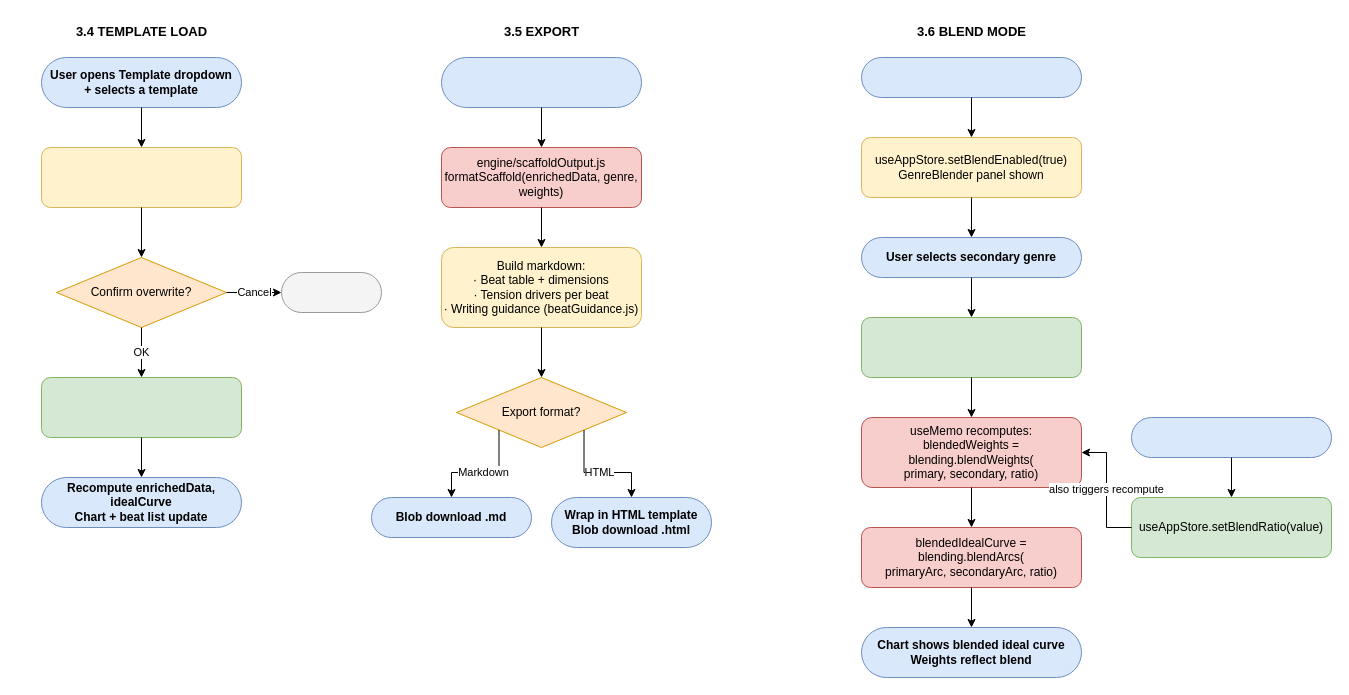
Image size: 1349x695. Some labels were removed from this diagram. Each missing label, with the centre of its shape:
No-op: the point at 331,292
TemplateLoader: fetch definition from presetArcs / customStructures: the point at 141,177
useAppStore.setScaffoldBeats(template.beats): the point at 141,407
useAppStore.setSecondaryGenre(genre): the point at 971,347
User clicks Export Markdown / HTML: the point at 541,82
User moves Blend Ratio slider: the point at 1231,437
User toggles Blend Mode switch: the point at 971,77
